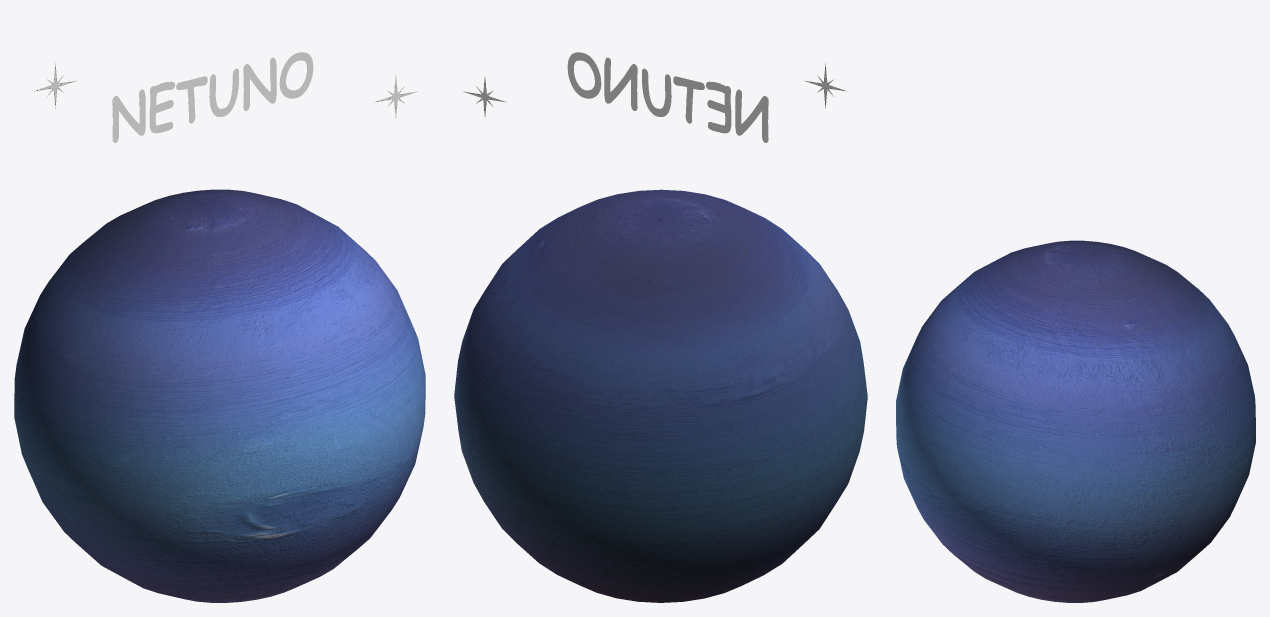
Rendered from netuno.glb.
3 renders of one model, left to right at view 1: azimuth 30°, elevation 25°; view 2: azimuth 150°, elevation 25°; view 3: azimuth 270°, elevation 25°, orthographic. The views are drawn at different scales.
Parts seen in each view (by area): view 1: Terra.003, Letra; view 2: Terra.003, Letra; view 3: Terra.003.
Boxes of the visible parts, <box> form: Terra.003: <box>14,189,425,602</box>; Letra: <box>112,52,313,142</box>; Terra.003: <box>454,189,867,602</box>; Letra: <box>567,52,768,142</box>; Terra.003: <box>896,240,1255,602</box>.
Bounding box in the file's own units: 1.4 × 1.95 × 1.29.
2 materials, 2 textured.
